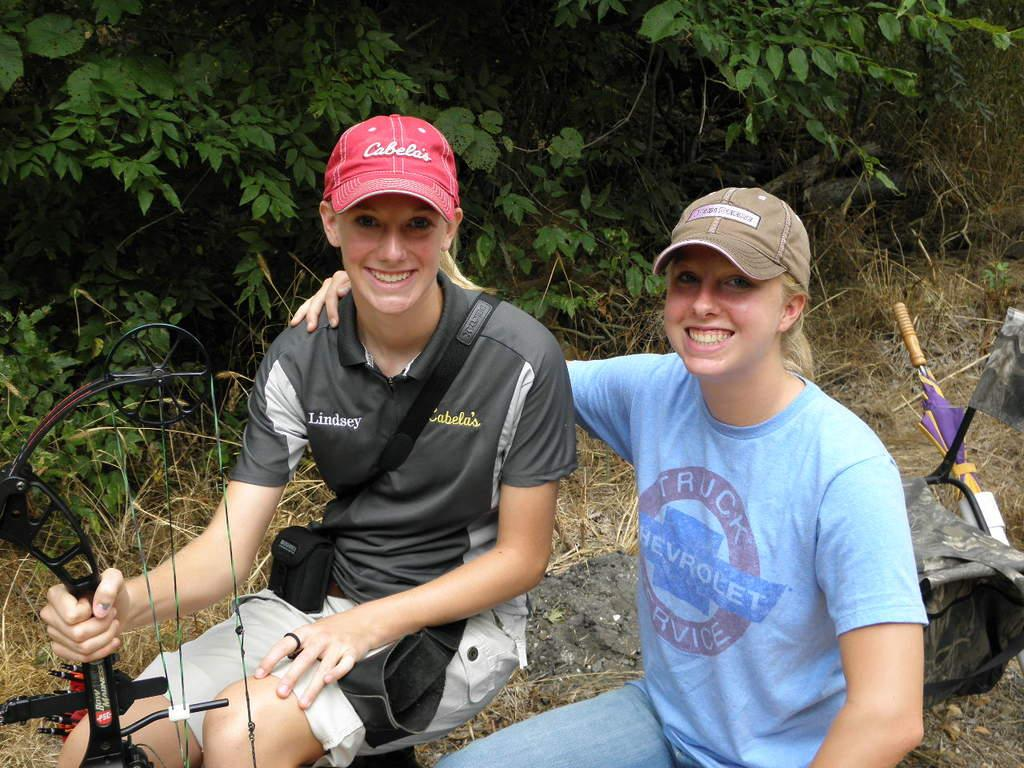Hat: (654, 188, 814, 296), (318, 109, 462, 226)
